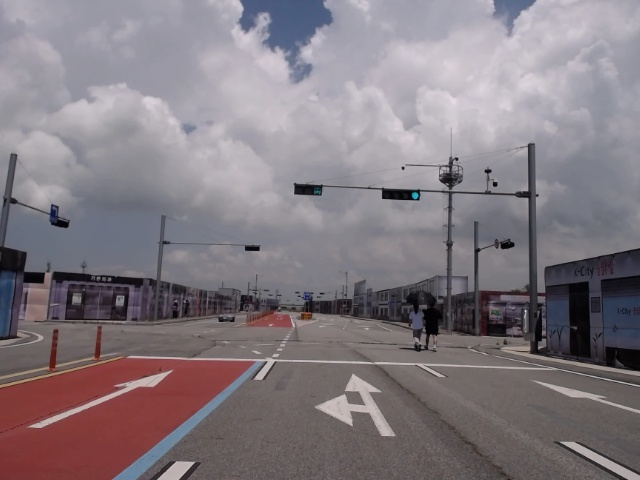straight_green_4: (382, 188, 422, 201)
